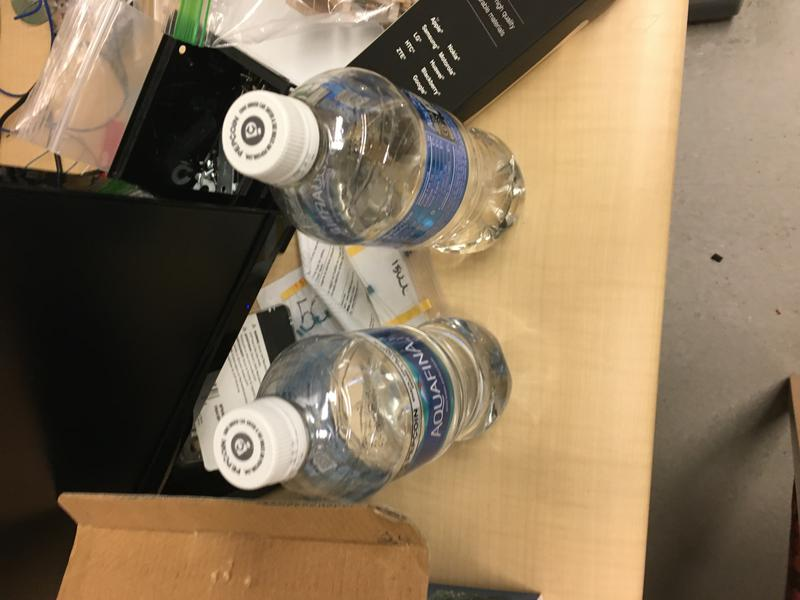bottle: (219, 65, 527, 260), (213, 316, 516, 504)
